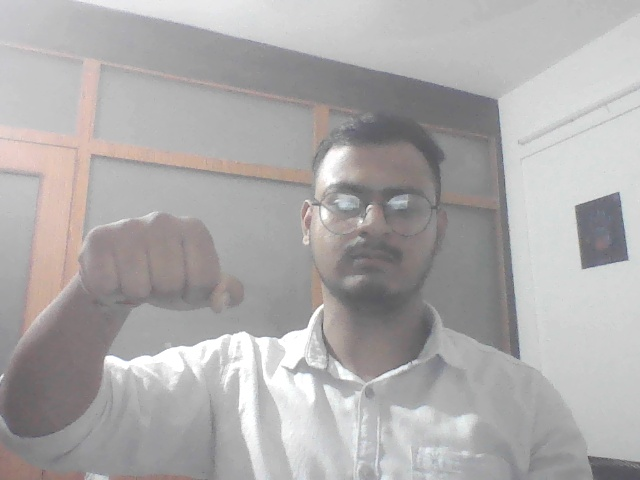YES: (73, 205, 254, 329)
